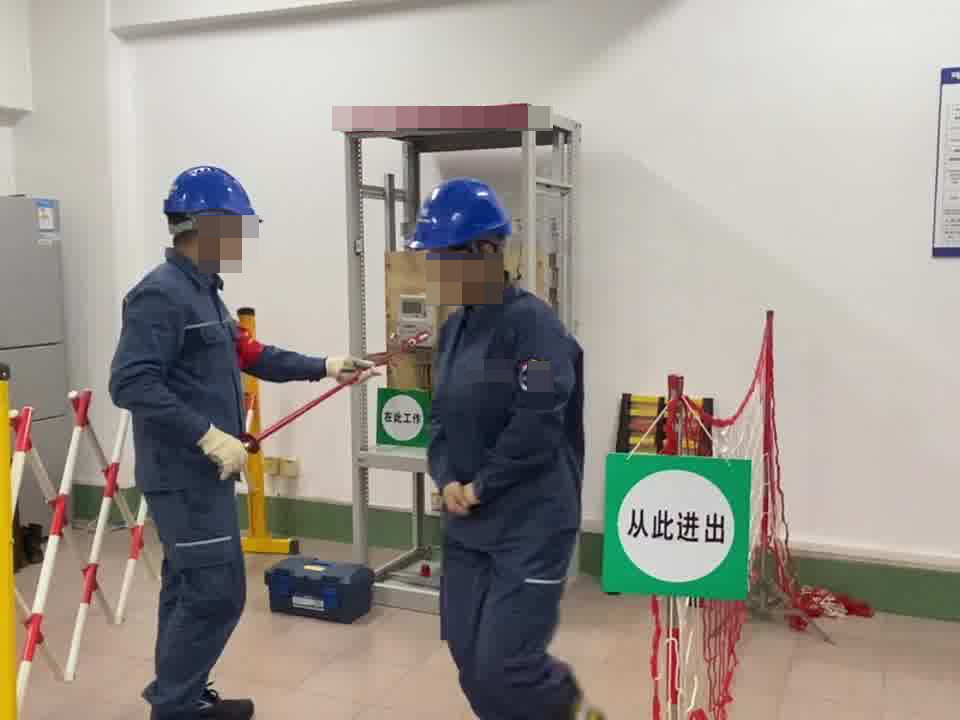badge: (234, 325, 259, 368)
downsuit: (142, 483, 247, 713), (439, 556, 581, 720)
halt: (406, 176, 516, 302), (161, 164, 261, 273)
hand: (444, 474, 480, 518)
inear: (464, 241, 504, 283), (189, 217, 229, 255)
intosign: (606, 456, 757, 603)
person: (104, 160, 334, 720), (399, 173, 591, 720)
sleeve: (518, 359, 547, 397)
testrod: (243, 327, 433, 478)
upsuit: (430, 288, 586, 710), (430, 292, 584, 586), (116, 263, 253, 484)
wglove: (203, 426, 253, 482), (321, 351, 379, 392)
worksign: (373, 387, 434, 449)
wronghold: (236, 349, 389, 455)
